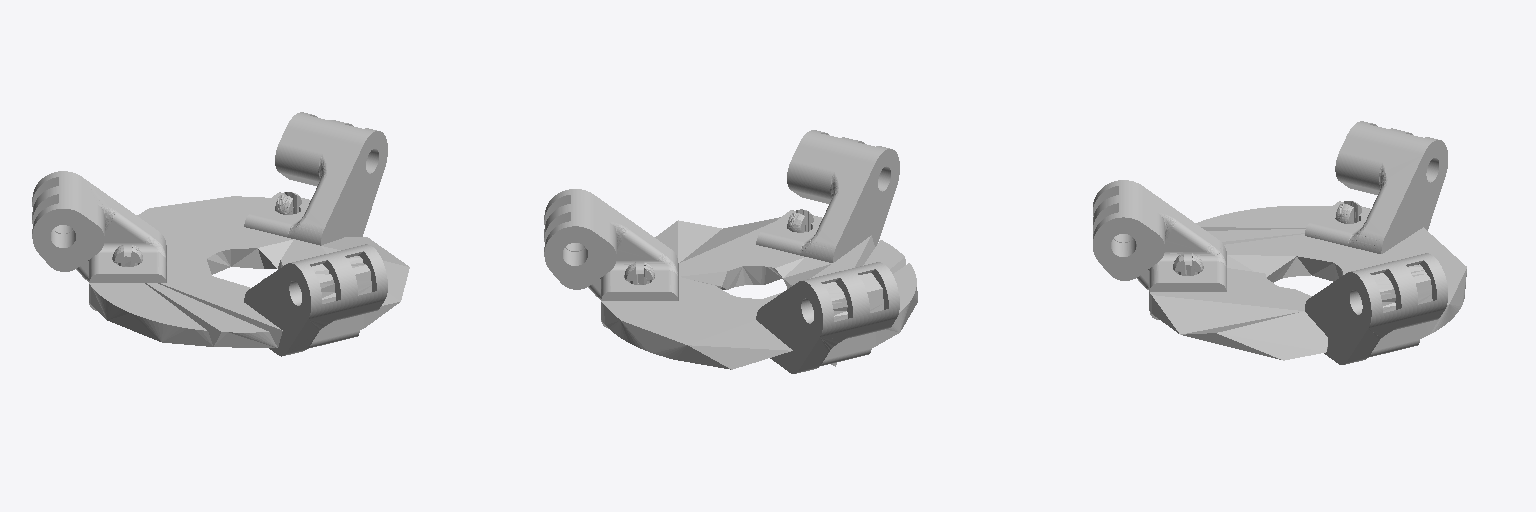
File: simplify_effector.obj
3 views of the same model, side by side, from view 1: azimuth 30°, elevation 25°; view 2: azimuth 150°, elevation 25°; view 3: azimuth 270°, elevation 25° (orthographic).
Size of the model in its own units: 0.0796 by 0.0245 by 0.0726.